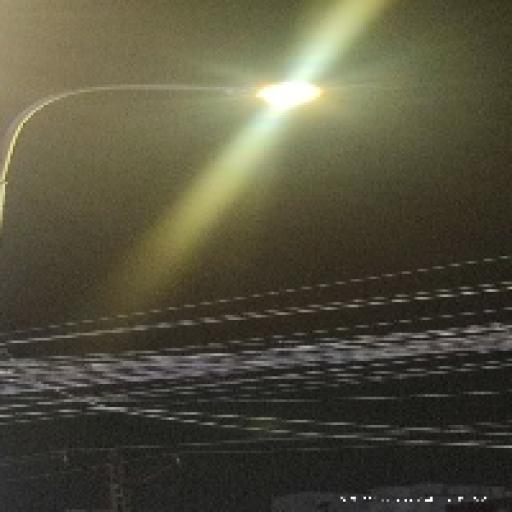Working: (246, 72, 330, 119)
